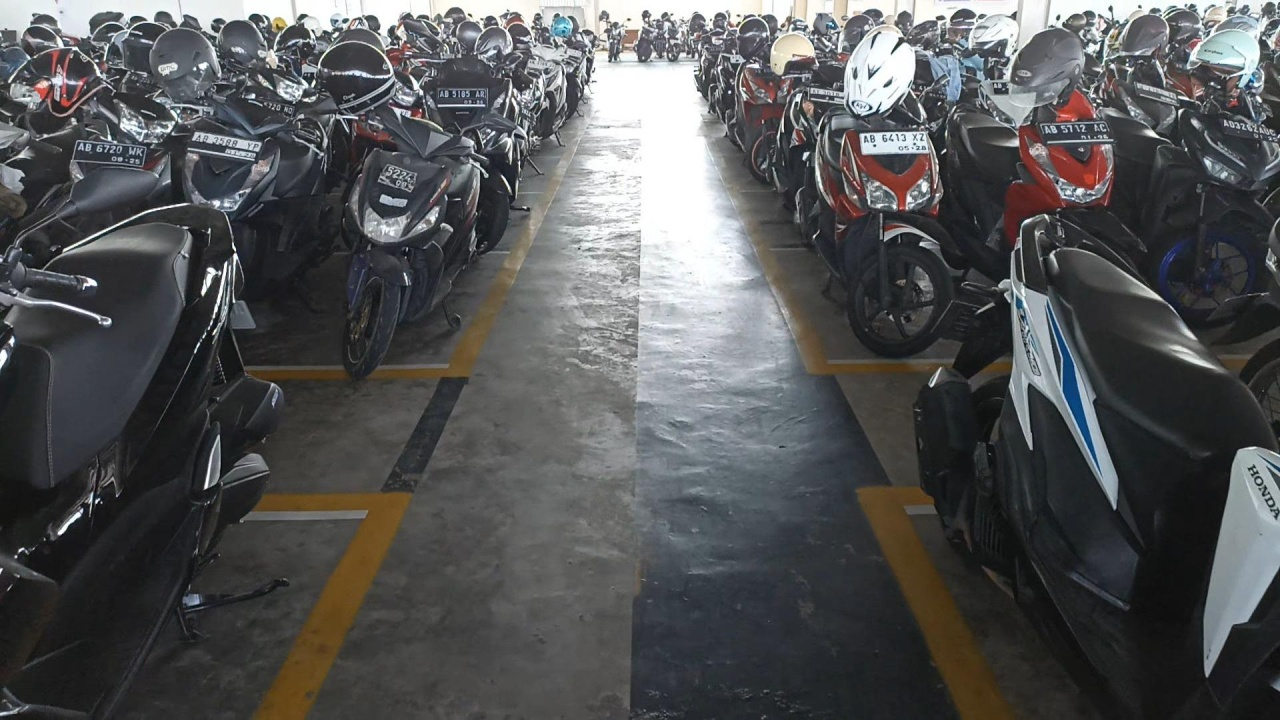plate: (186, 131, 264, 161), (1039, 120, 1116, 144), (73, 141, 146, 166), (860, 132, 930, 155), (1223, 118, 1280, 142), (437, 88, 487, 108)
